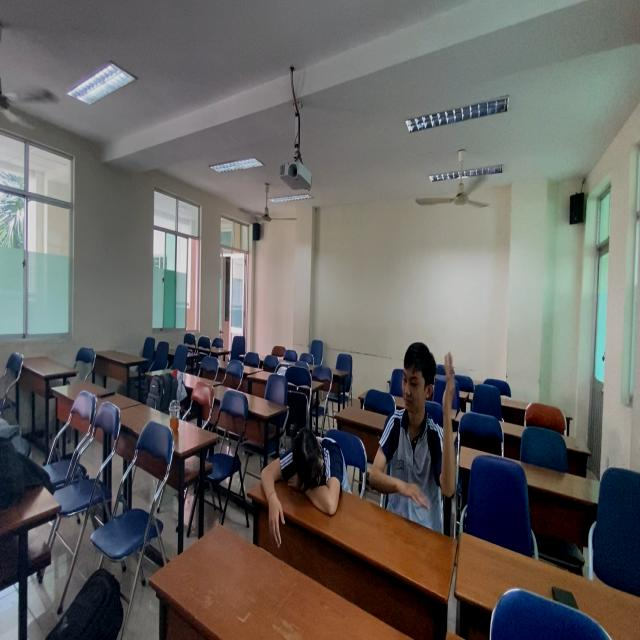raise_hand: (365, 341, 458, 527)
sleep: (261, 424, 347, 536)
